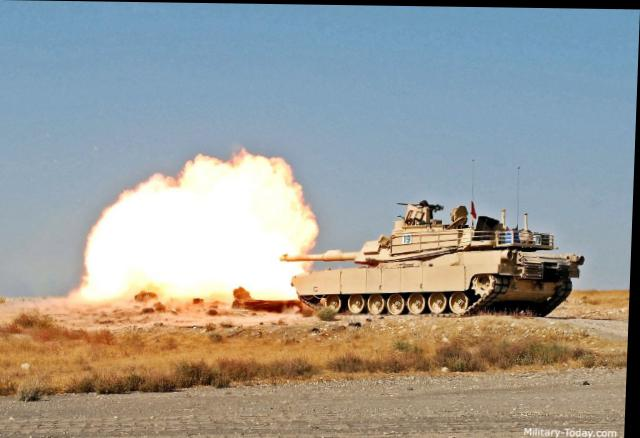tank: (301, 209, 593, 314)
